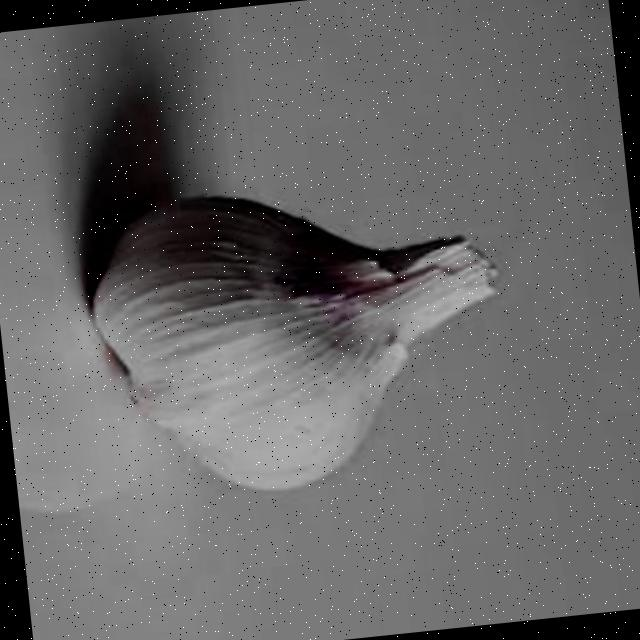garlic: (92, 197, 497, 490)
